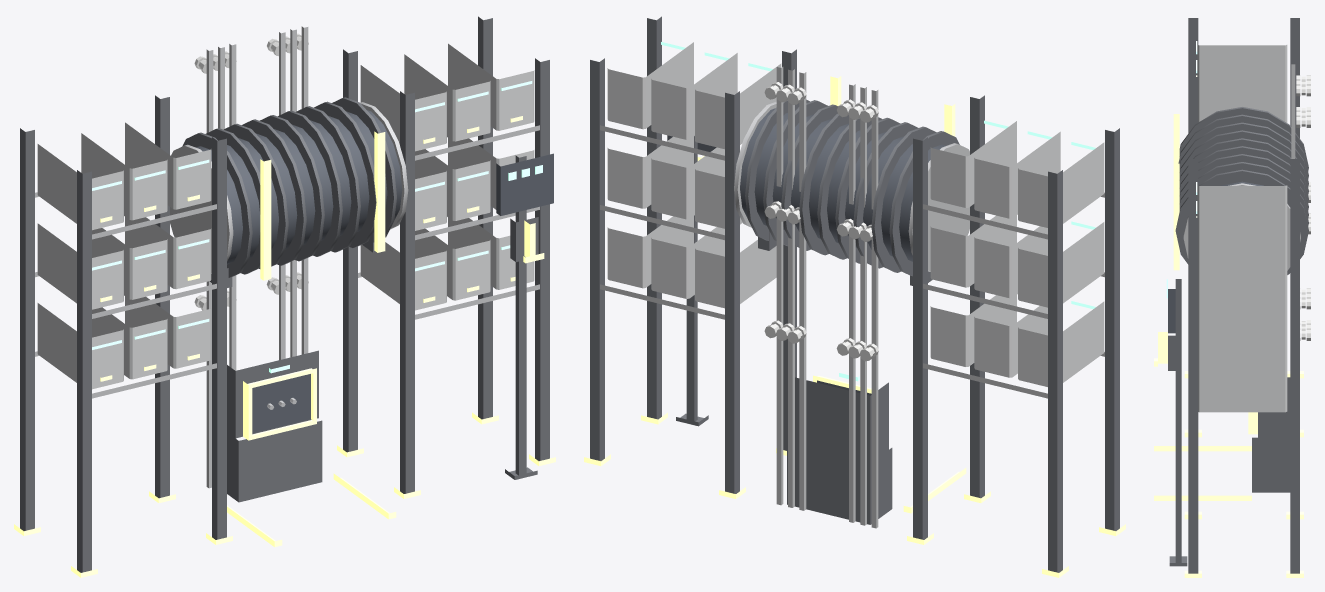
Rendered from iter_01.glb.
3 views of the same model, side by side, from view 1: azimuth 30°, elevation 25°; view 2: azimuth 150°, elevation 25°; view 3: azimuth 270°, elevation 25° (orthographic). The views are drawn at different scales.
Parts seen in each view (by area): view 1: Cells_L, Cells_R, Rack_Posts_L, Rack_Posts_R, Drum_Fins, Inverter_Drum, Port_Pedestal, Busbars_R, Busbars_L, Panel_Post, Saddle_Straps, Status_Panel (+11 smaller); view 2: Cells_L, Cells_R, Rack_Posts_L, Rack_Posts_R, Drum_Fins, Busbars_R, Busbars_L, Inverter_Drum, Port_Column, Port_Pedestal, Drum_End_Caps, Tier_Rails_L (+5 smaller); view 3: Cells_R, Drum_Fins, Rack_Posts_R, Cells_L, Port_Pedestal, Panel_Post, Rack_Posts_L, Saddle_Straps, Guide_Rails, Port_Column, Standoffs_L, Standoffs_R (+7 smaller).
Part boxes in pixels (x1=…): Cells_L: x1=37, y1=122, x2=211, y2=389; Cells_R: x1=360, y1=43, x2=534, y2=310; Rack_Posts_L: x1=20, y1=95, x2=226, y2=572; Rack_Posts_R: x1=343, y1=16, x2=549, y2=493; Drum_Fins: x1=182, y1=97, x2=396, y2=277; Inverter_Drum: x1=196, y1=110, x2=402, y2=264; Port_Pedestal: x1=227, y1=420, x2=322, y2=502; Busbars_R: x1=279, y1=26, x2=308, y2=359; Busbars_L: x1=206, y1=44, x2=236, y2=488; Panel_Post: x1=505, y1=155, x2=537, y2=479; Saddle_Straps: x1=260, y1=131, x2=385, y2=280; Status_Panel: x1=496, y1=153, x2=553, y2=215; Cells_L: x1=930, y1=121, x2=1104, y2=386; Cells_R: x1=607, y1=42, x2=781, y2=308; Rack_Posts_L: x1=913, y1=95, x2=1119, y2=572; Rack_Posts_R: x1=590, y1=16, x2=796, y2=493; Drum_Fins: x1=745, y1=99, x2=959, y2=276; Busbars_R: x1=776, y1=67, x2=806, y2=510; Busbars_L: x1=849, y1=84, x2=878, y2=528; Inverter_Drum: x1=740, y1=108, x2=946, y2=261; Port_Column: x1=787, y1=375, x2=888, y2=463; Port_Pedestal: x1=787, y1=443, x2=892, y2=524; Drum_End_Caps: x1=734, y1=101, x2=969, y2=271; Tier_Rails_L: x1=923, y1=192, x2=1104, y2=398; Cells_R: x1=1197, y1=185, x2=1287, y2=412; Drum_Fins: x1=1175, y1=107, x2=1308, y2=274; Rack_Posts_R: x1=1188, y1=159, x2=1299, y2=573; Cells_L: x1=1197, y1=44, x2=1287, y2=122; Port_Pedestal: x1=1252, y1=437, x2=1290, y2=492; Panel_Post: x1=1169, y1=279, x2=1187, y2=566; Rack_Posts_L: x1=1188, y1=18, x2=1299, y2=138; Saddle_Straps: x1=1173, y1=114, x2=1179, y2=270; Guide_Rails: x1=1154, y1=446, x2=1251, y2=500; Port_Column: x1=1258, y1=377, x2=1290, y2=437; Standoffs_L: x1=1296, y1=75, x2=1310, y2=309; Standoffs_R: x1=1296, y1=107, x2=1310, y2=340.
Size of the model in its own units: 2.5 by 2.2 by 0.8.
